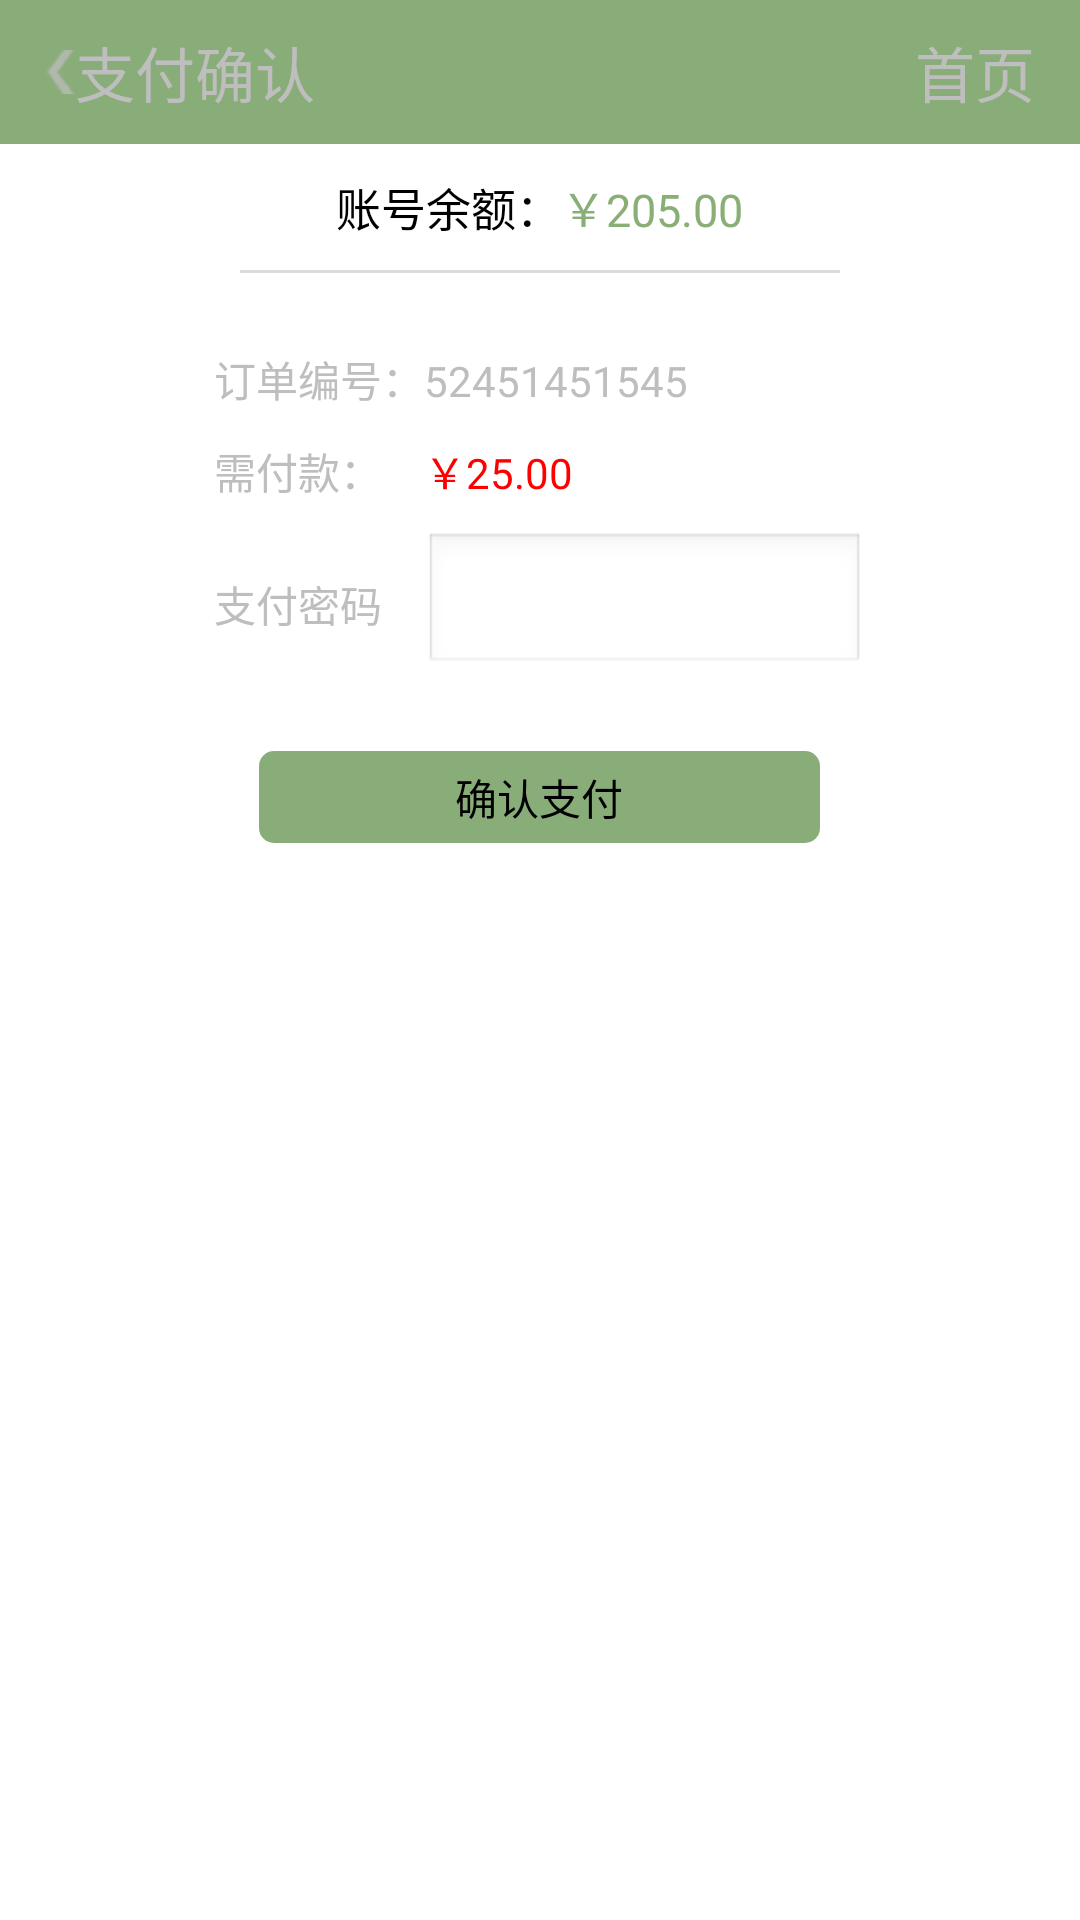

Screen size 1080w x 1920h. Icon name, then its box in pixels as box=[x1, y1, x2, y2]:
arrow left: box=[48, 50, 74, 94]
